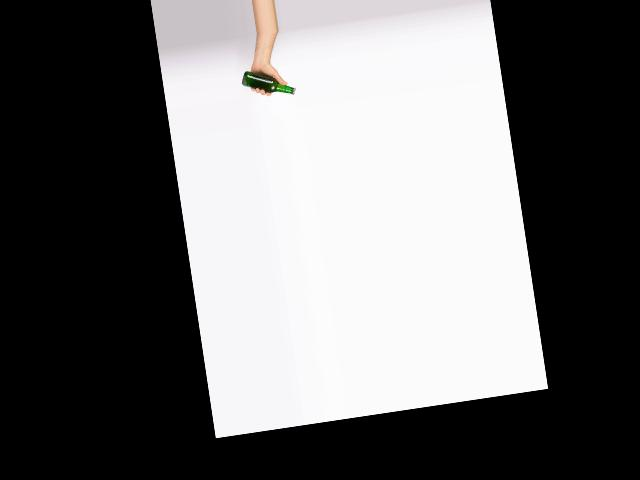beer: (240, 64, 296, 101)
